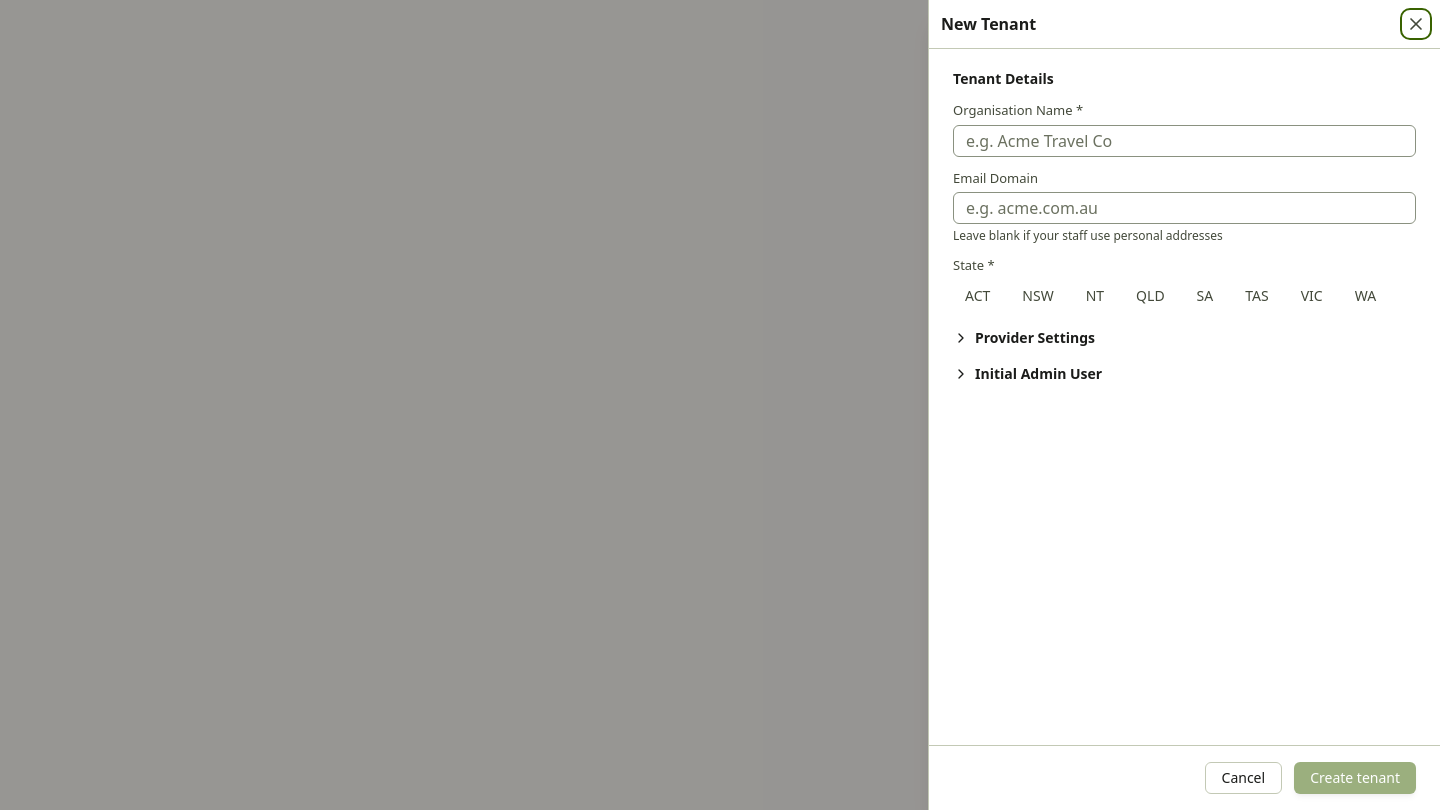
it: TenantFormPanel create: optional domain, required state › keeps what was typed and shows the server's refusal
Step 1. Type "Jo Care" into the field with placeholder "e.g. Acme Travel Co" → (1184, 140), box [953, 124, 1416, 156]
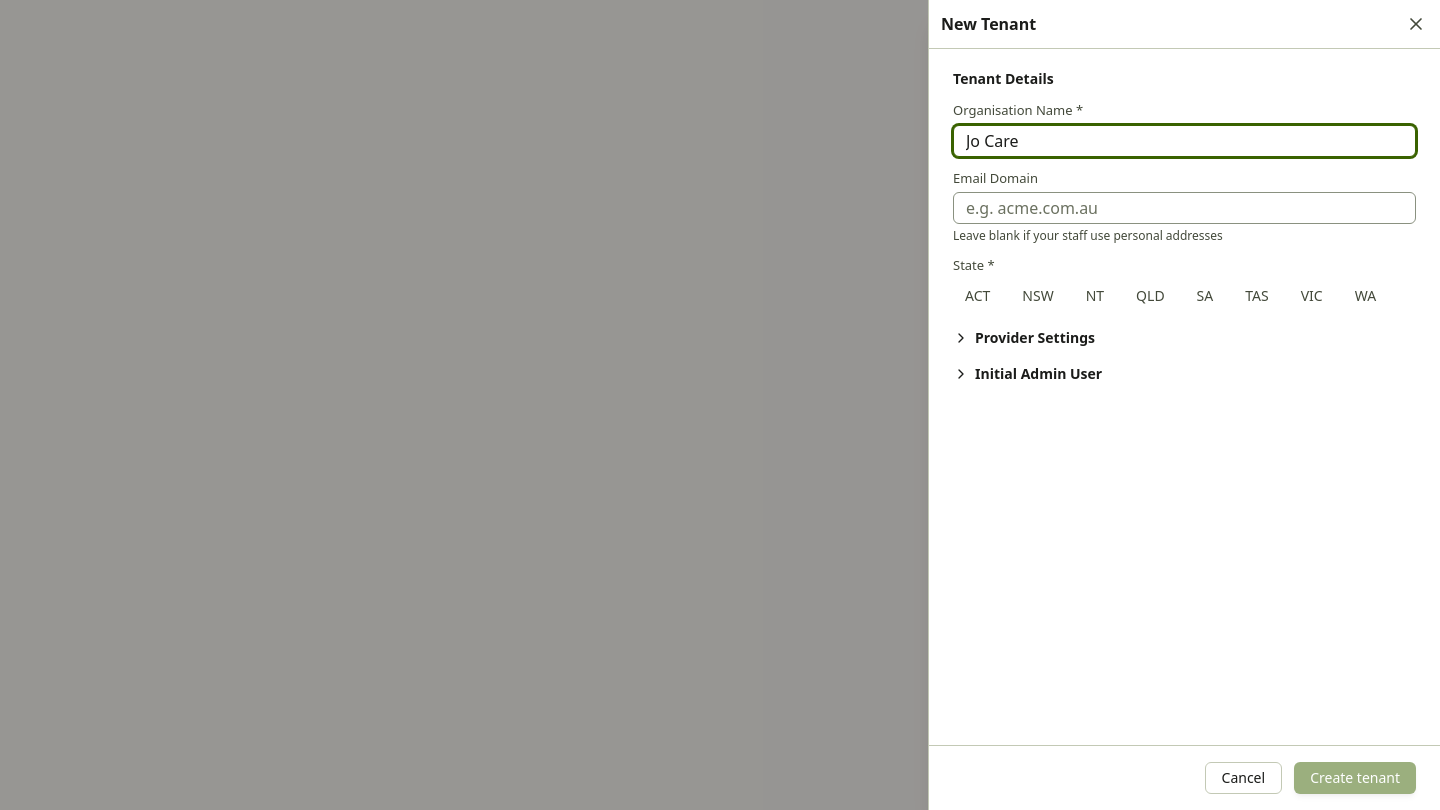
Step 2. Type "jo.example.com" into the field with placeholder "e.g. acme.com.au" → (1184, 208), box [953, 192, 1416, 224]
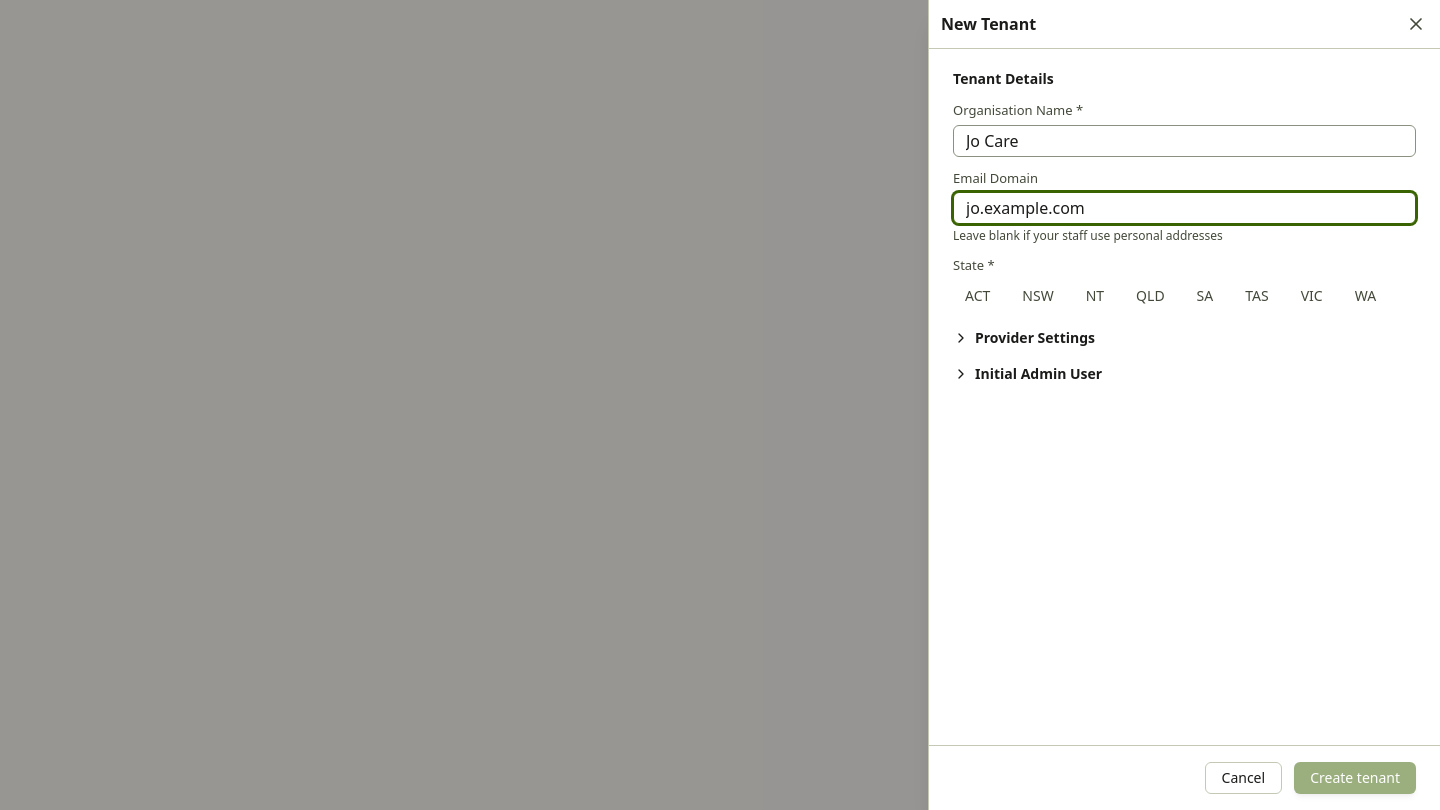
Step 3. Click the radio button labelled "SA" → click(1205, 296), box [1185, 280, 1225, 312]
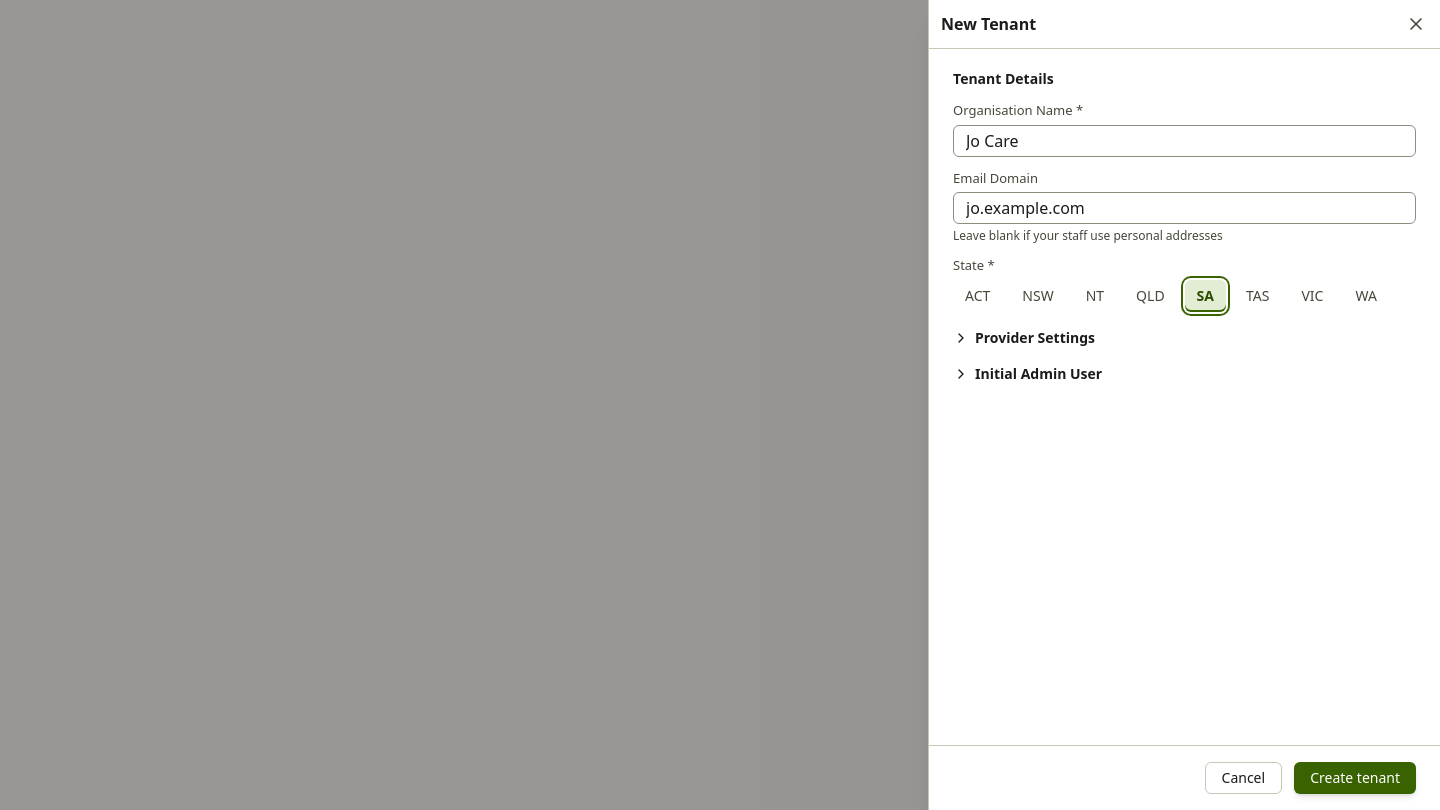
Step 4. Click the button "Create tenant" → click(1355, 778), box [1294, 762, 1416, 794]
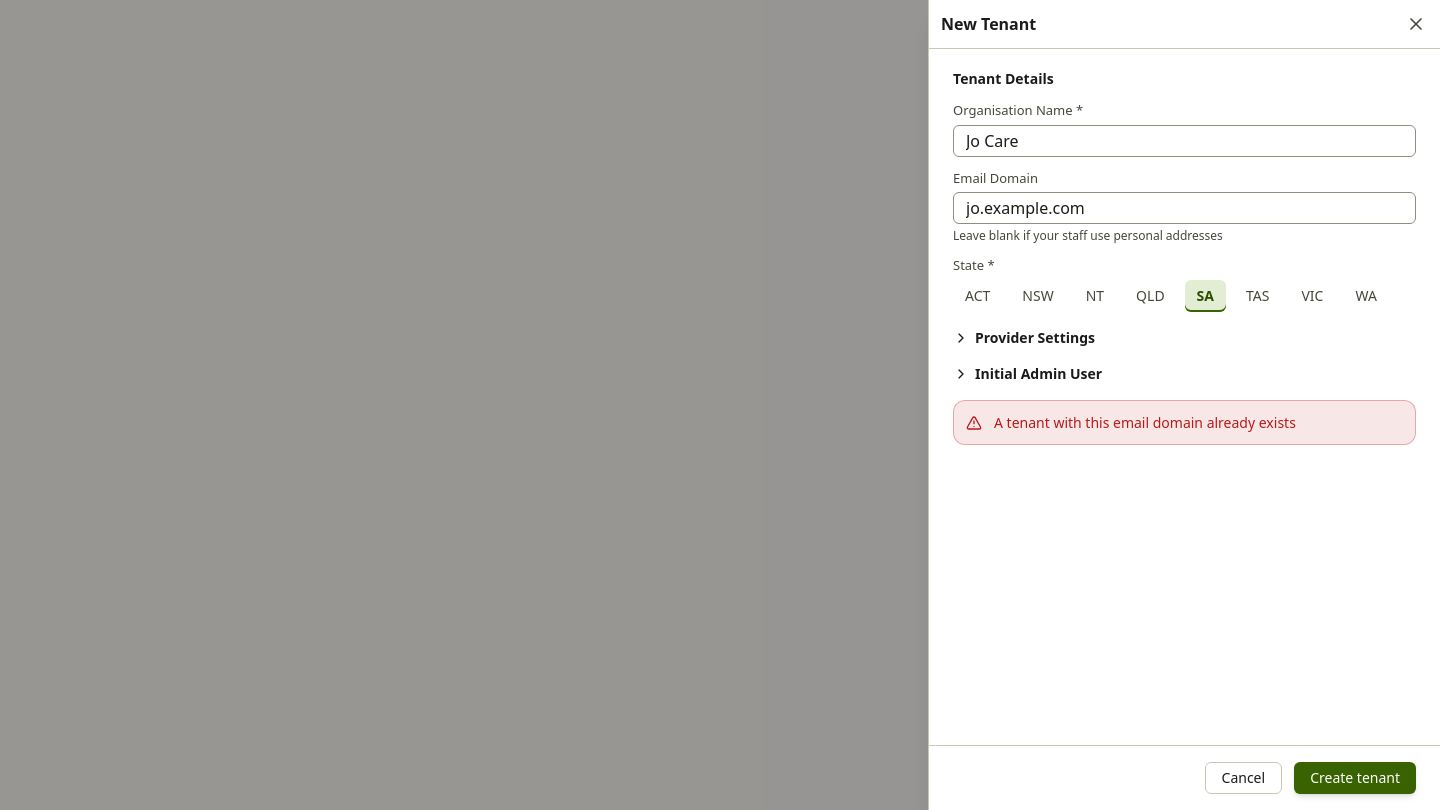
Expected: the radio button labelled "SA" is checked, [1185, 280, 1226, 312]
Expected: the text "A tenant with this email domain already exists" is shown, [994, 412, 1296, 432]
